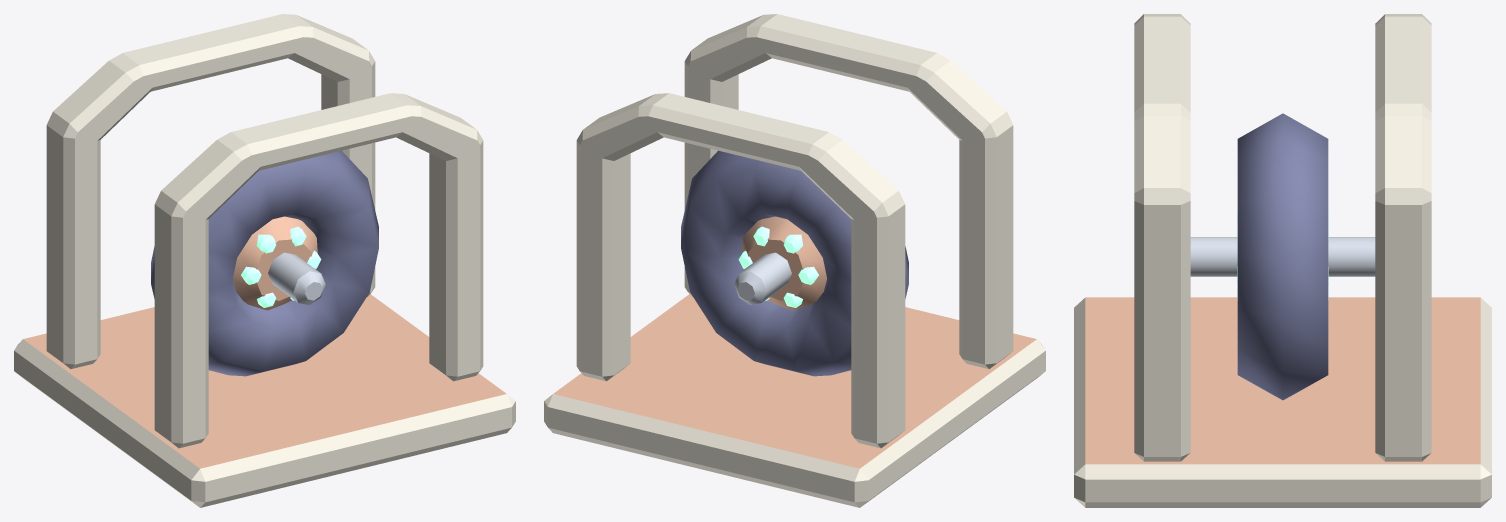
Rendered from R4X_MovementDurabilityBooster_LOD1.fbx.
The picture shows the model from 3 angles, left to right: view 1: azimuth 30°, elevation 25°; view 2: azimuth 150°, elevation 25°; view 3: azimuth 270°, elevation 25°; orthographic projection. The views are drawn at different scales.
Parts seen in each view (by area): view 1: R4X_MovementDurabilityBooster_LOD1; view 2: R4X_MovementDurabilityBooster_LOD1; view 3: R4X_MovementDurabilityBooster_LOD1.
Boxes of the visible parts, <box> form: R4X_MovementDurabilityBooster_LOD1: <box>14,14,515,507</box>; R4X_MovementDurabilityBooster_LOD1: <box>544,14,1045,507</box>; R4X_MovementDurabilityBooster_LOD1: <box>1074,14,1491,507</box>.
Size of the model in its own units: 0.52 by 0.5 by 0.52.
